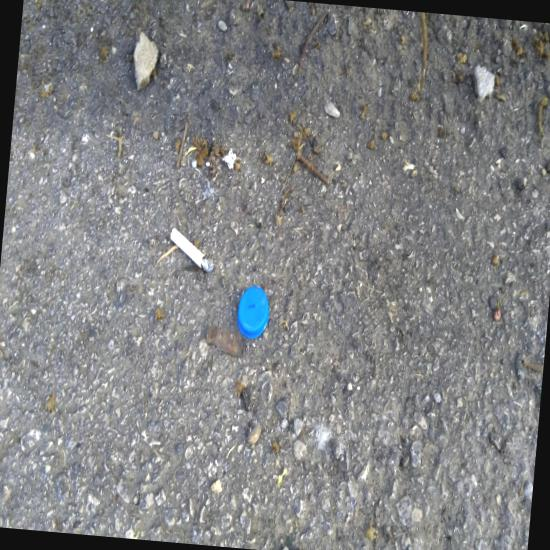Disposable plastic cup: (40, 453, 212, 545)
Other carton: (0, 500, 43, 530)
Other plastic: (129, 317, 150, 337)
Plastic straw: (0, 258, 67, 533)
Plastic utensils: (125, 410, 136, 539)
